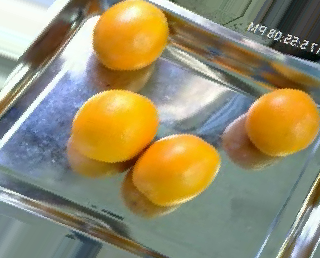Orange: (70, 87, 160, 163), (131, 132, 221, 207), (92, 1, 169, 71), (244, 86, 320, 155)
